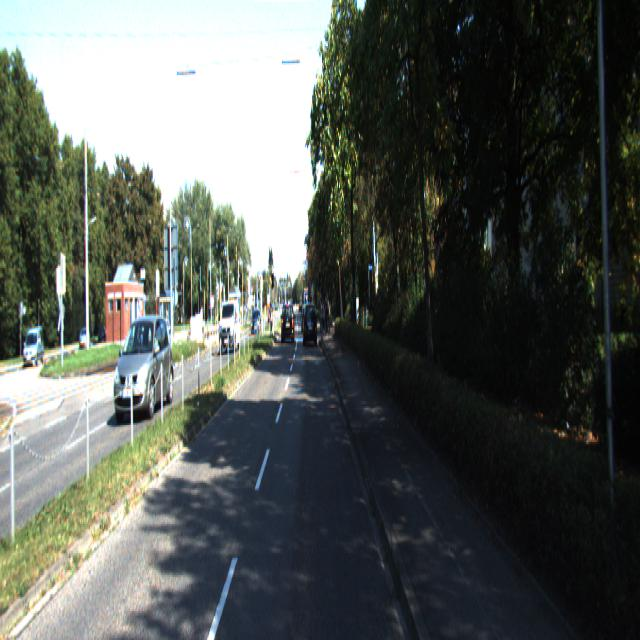Car: (113, 313, 175, 428), (219, 298, 242, 352), (304, 303, 318, 349), (282, 303, 295, 344)
